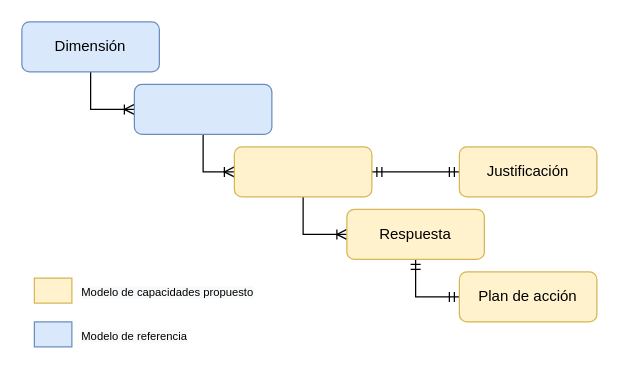
The diagram is 619 pixels wide and 381 high, and some of its shapes have lost their labels. Here are the shapes that lost their labels. From the top down, the box of each, then its label:
(133, 83, 272, 134): Capacidad
(233, 146, 372, 197): Pregunta
